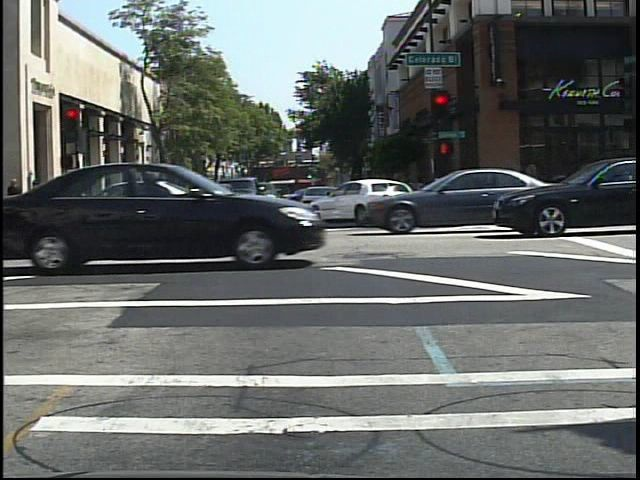person: (136, 181, 154, 218), (133, 181, 148, 214)
